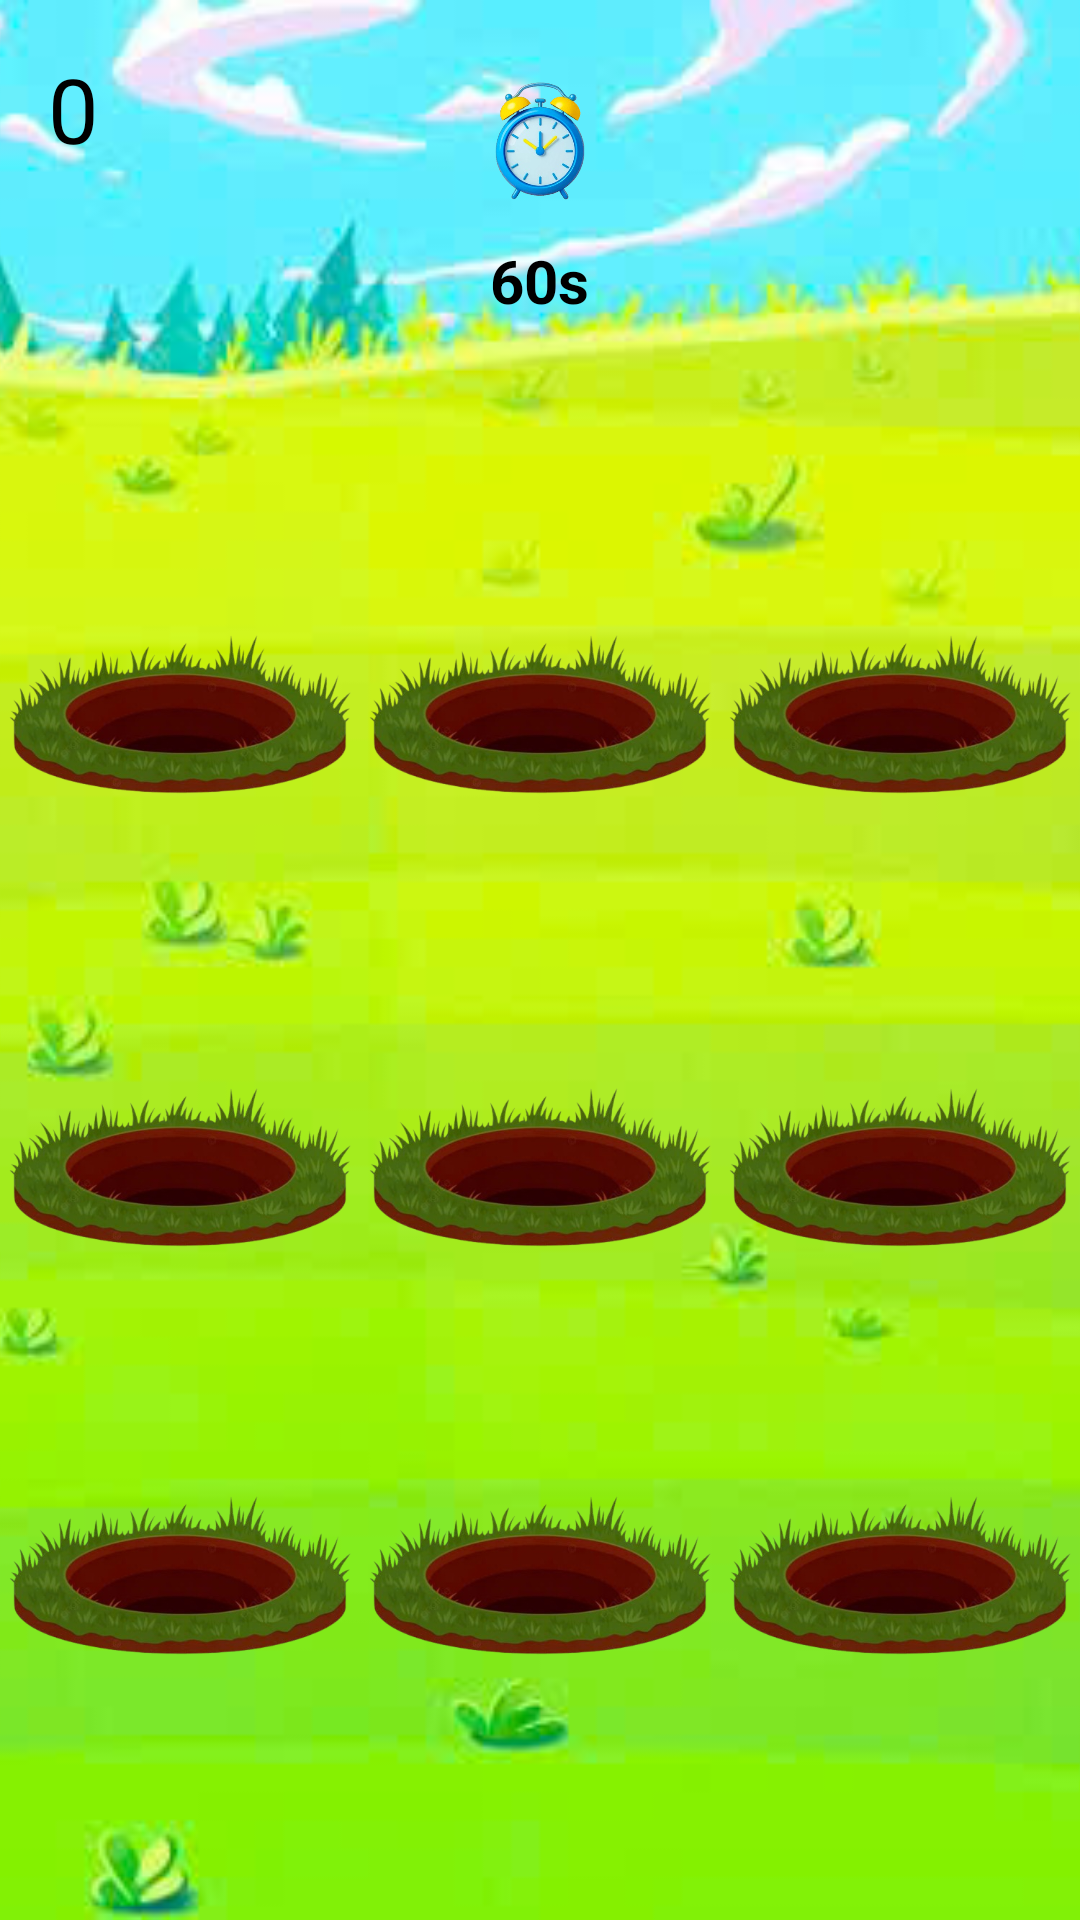

Icon bounding boxes for this 1080x1920 phone screenshot, format (x1, y1, x2, y2):
clock: (441, 57, 639, 234)
